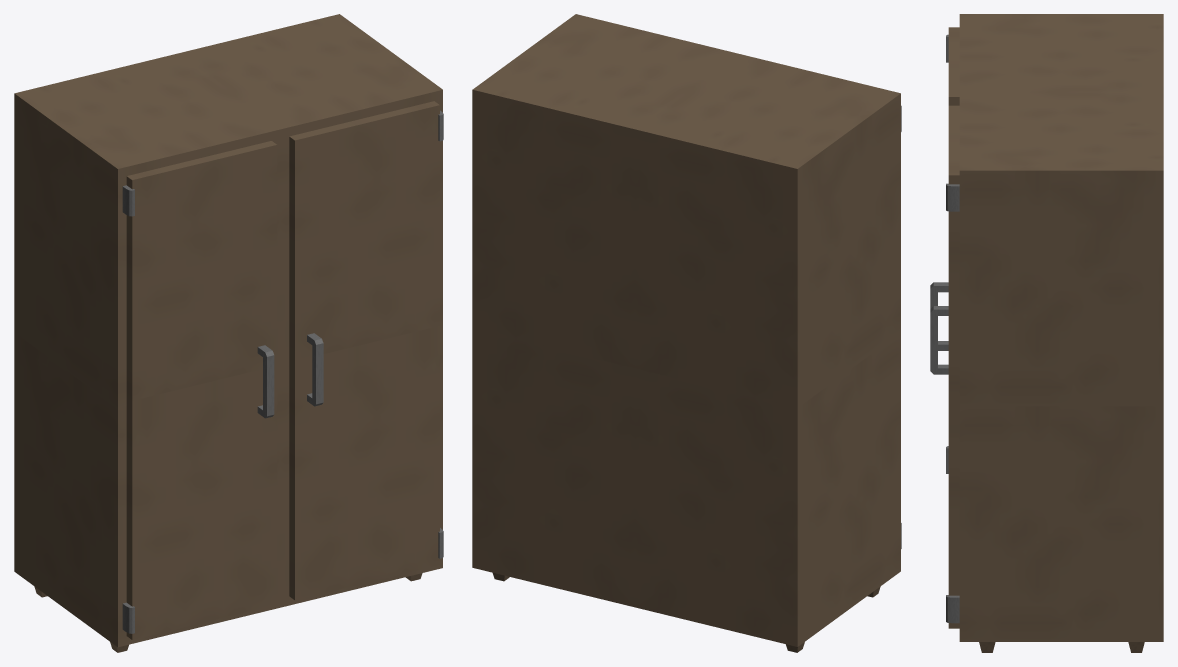
File: Wardrobe.fbx
3 renders of one model, left to right at view 1: azimuth 30°, elevation 25°; view 2: azimuth 150°, elevation 25°; view 3: azimuth 270°, elevation 25°, orthographic.
Visible parts, largest first — view 1: Cube.033; view 2: Cube.033; view 3: Cube.033.
Part boxes in pixels (box(x1,y1,x2,y2)): Cube.033: box(14, 14, 443, 652); Cube.033: box(472, 14, 901, 652); Cube.033: box(930, 14, 1163, 652).
Bounding box in the file's own units: 216 × 313 × 136.
